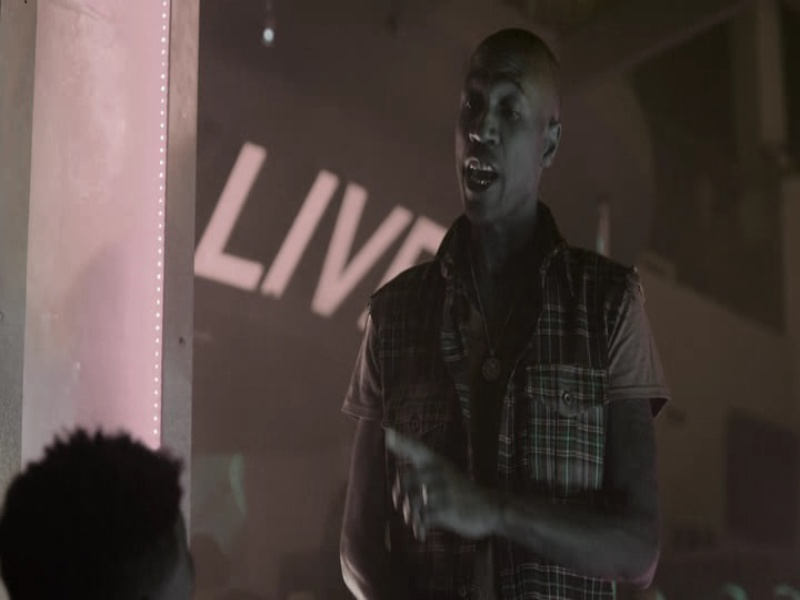TsisyArotava: (438, 40, 569, 231)
